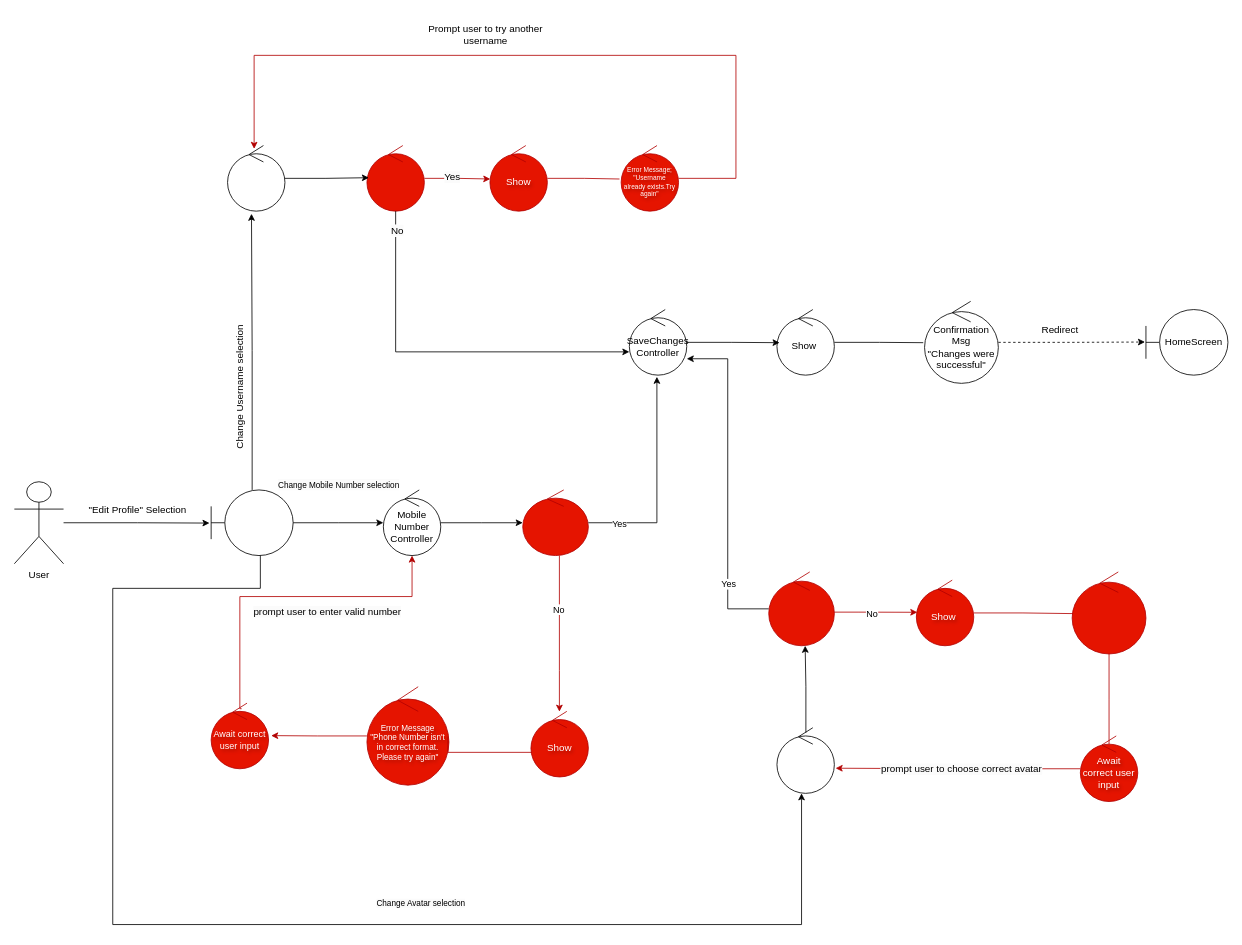
The diagram is 1242 pixels wide and 945 high, and some of its shapes have lost their labels. Each missing label, with the box of its shape:
Avatar Controller: (776, 727, 834, 793)
EditProfile Screen: (210, 489, 293, 556)
Error Message "Please select a valid photo": (1071, 571, 1146, 654)
Is the number in the correct format ?: (522, 489, 588, 556)
Is the photo in the correct format ?: (768, 571, 834, 646)
Username already exists ?: (366, 145, 424, 211)
Username Controller: (227, 145, 285, 211)
